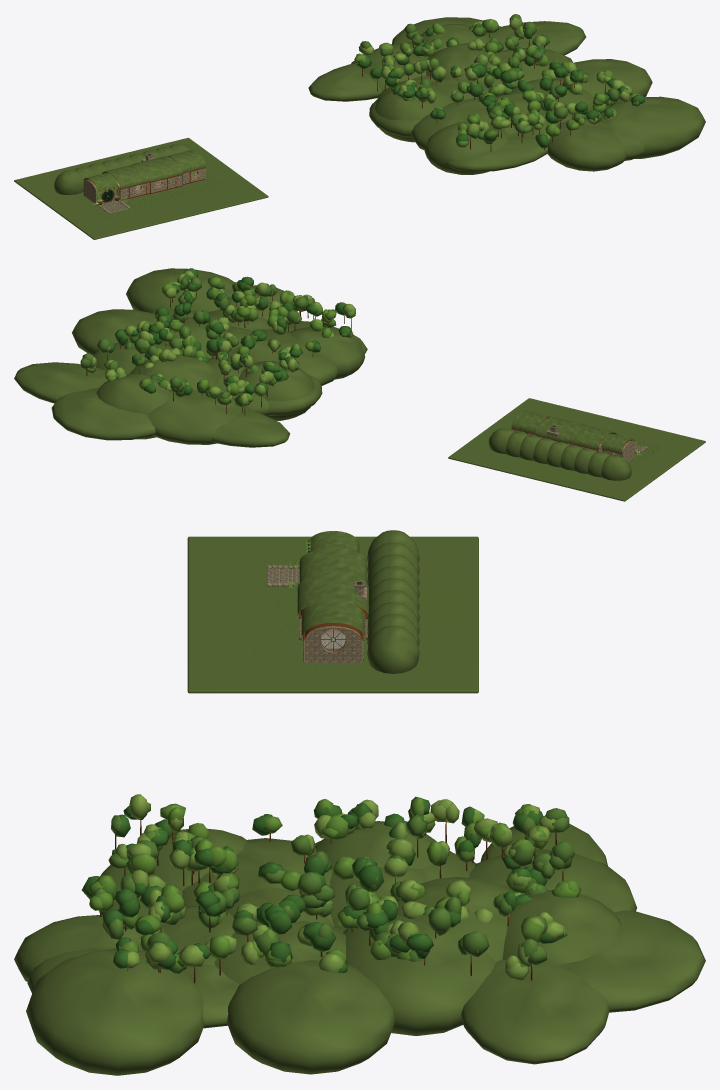
Rendered from toca.glb.
3 views of the same model, one above another, from view 1: azimuth 30°, elevation 25°; view 2: azimuth 150°, elevation 25°; view 3: azimuth 270°, elevation 25° (orthographic). The views are drawn at different scales.
Visible parts, largest first — view 1: sala_exterior | Moss & living roof, sala_exterior | Leaf 0, sala_exterior | Leaf 1, sala_exterior | Leaf 2, sala_exterior | Leaf 3; view 2: sala_exterior | Moss & living roof, sala_exterior | Leaf 0, sala_exterior | Leaf 1, sala_exterior | Leaf 3, sala_exterior | Leaf 2; view 3: sala_exterior | Moss & living roof, sala_exterior | Leaf 0, sala_exterior | Leaf 2, sala_exterior | Leaf 1, sala_exterior | Leaf 3, sala_worldrim | 03 | Warm limestone rubble, sala_exterior | 01 | Aged honey oak - packed PBR.
Part boxes in pixels (x1=…): sala_exterior | Moss & living roof: x1=14, y1=17, x2=705, y2=239; sala_exterior | Leaf 0: x1=95, y1=23, x2=644, y2=205; sala_exterior | Leaf 1: x1=96, y1=19, x2=615, y2=206; sala_exterior | Leaf 2: x1=92, y1=18, x2=639, y2=205; sala_exterior | Leaf 3: x1=96, y1=14, x2=639, y2=208; sala_exterior | Moss & living roof: x1=14, y1=268, x2=705, y2=501; sala_exterior | Leaf 0: x1=105, y1=268, x2=641, y2=454; sala_exterior | Leaf 1: x1=103, y1=276, x2=639, y2=453; sala_exterior | Leaf 3: x1=80, y1=274, x2=644, y2=453; sala_exterior | Leaf 2: x1=85, y1=270, x2=641, y2=455; sala_exterior | Moss & living roof: x1=14, y1=530, x2=705, y2=1075; sala_exterior | Leaf 0: x1=81, y1=544, x2=580, y2=973; sala_exterior | Leaf 2: x1=102, y1=581, x2=563, y2=980; sala_exterior | Leaf 1: x1=89, y1=541, x2=580, y2=971; sala_exterior | Leaf 3: x1=93, y1=561, x2=575, y2=967; sala_worldrim | 03 | Warm limestone rubble: x1=301, y1=614, x2=365, y2=662; sala_exterior | 01 | Aged honey oak - packed PBR: x1=100, y1=820, x2=563, y2=983.
Size of the model in its own units: 131 by 14.6 by 73.69.
Materials: 45 (12 with a texture image).
